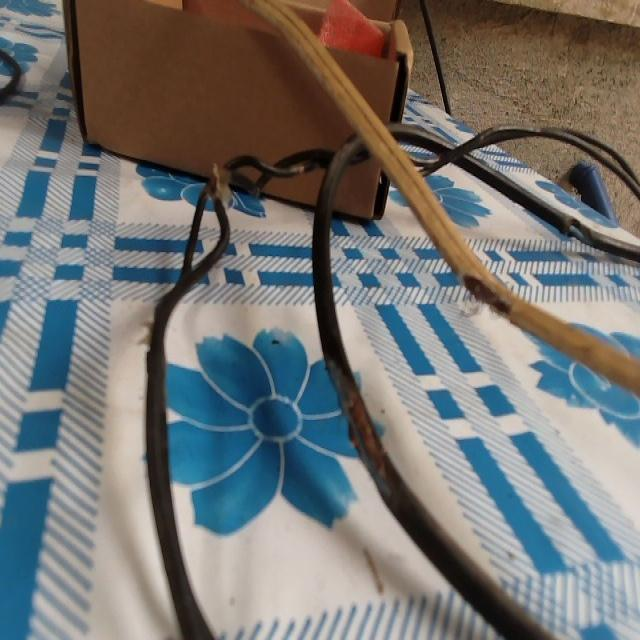-: (322, 352, 395, 493), (457, 271, 508, 321)
